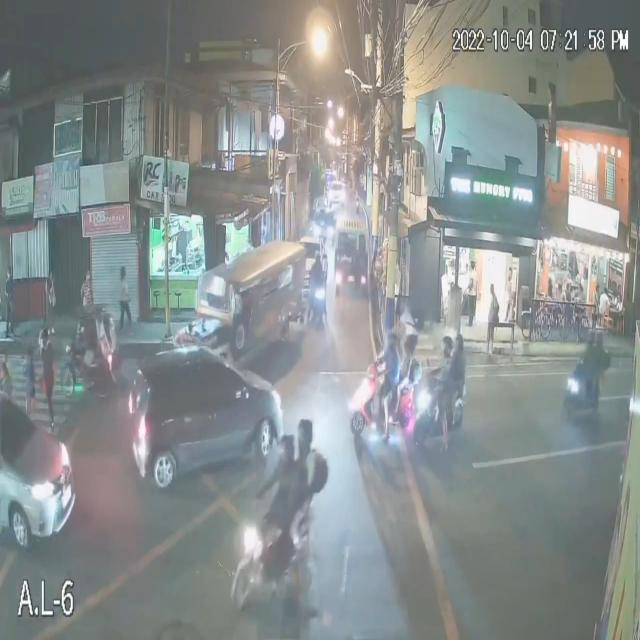Full-Faced: (275, 433, 295, 468), (294, 420, 314, 450), (400, 334, 417, 358), (386, 332, 398, 357), (443, 334, 455, 357), (454, 331, 464, 350)
